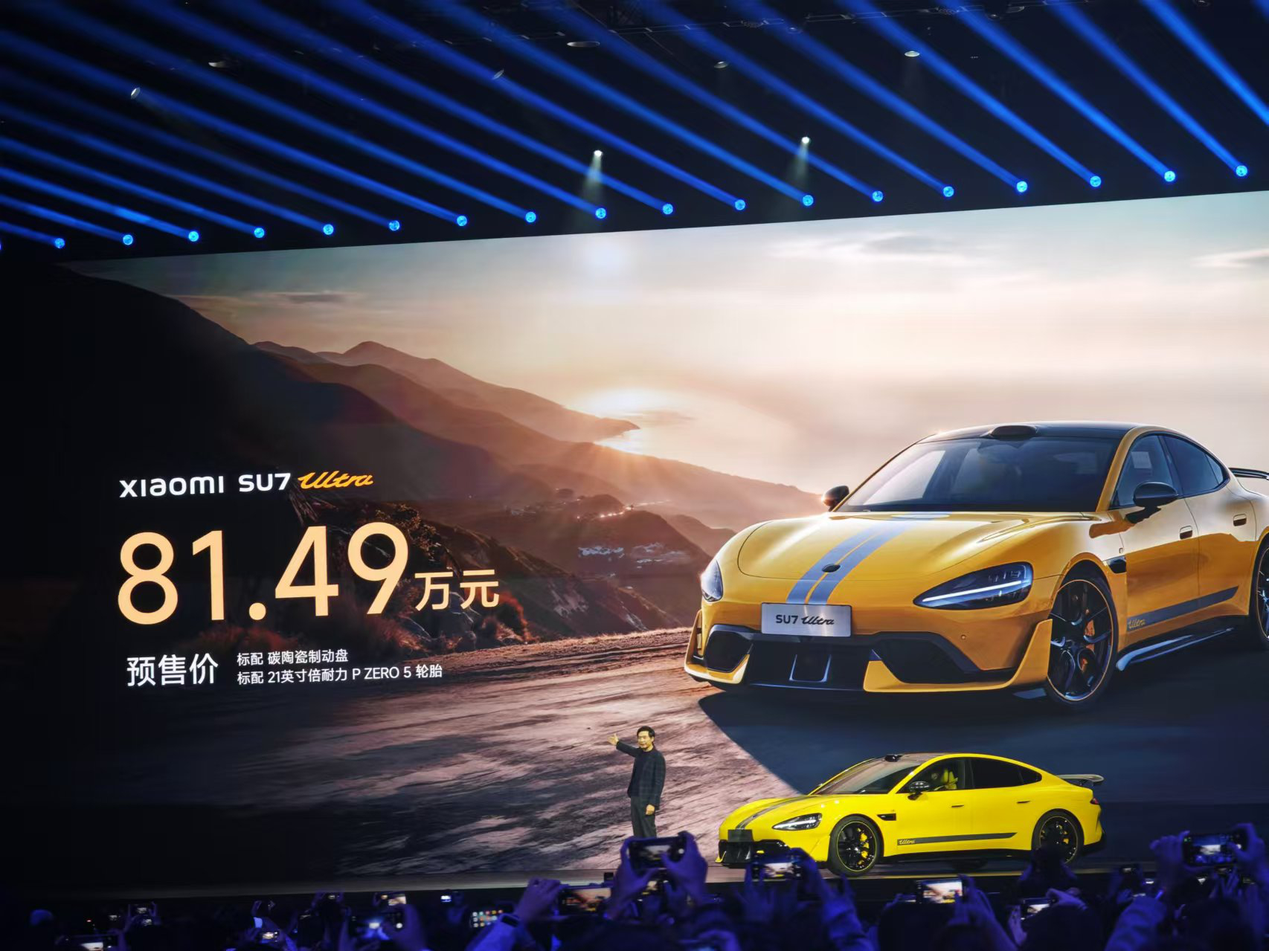su7: (684, 410, 1269, 712), (703, 745, 1108, 878)
